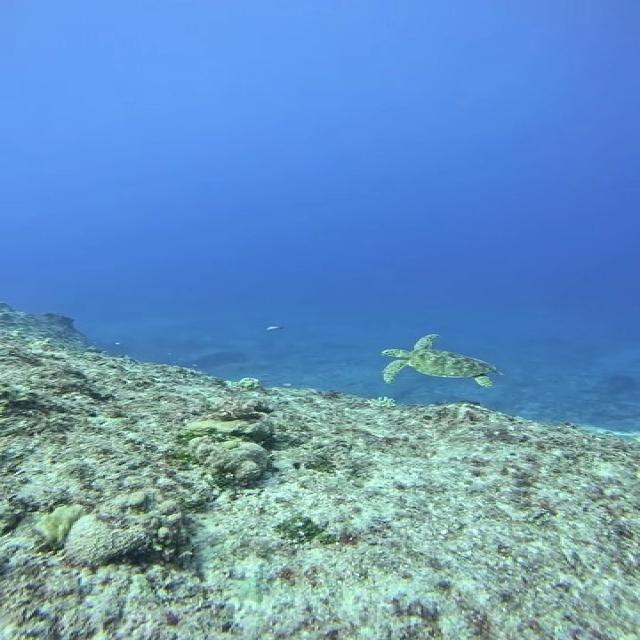turtle: (382, 333, 504, 388)
